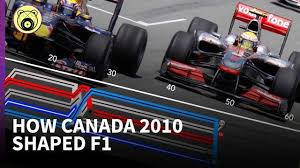f1_car: (156, 1, 300, 122), (2, 1, 149, 89)
